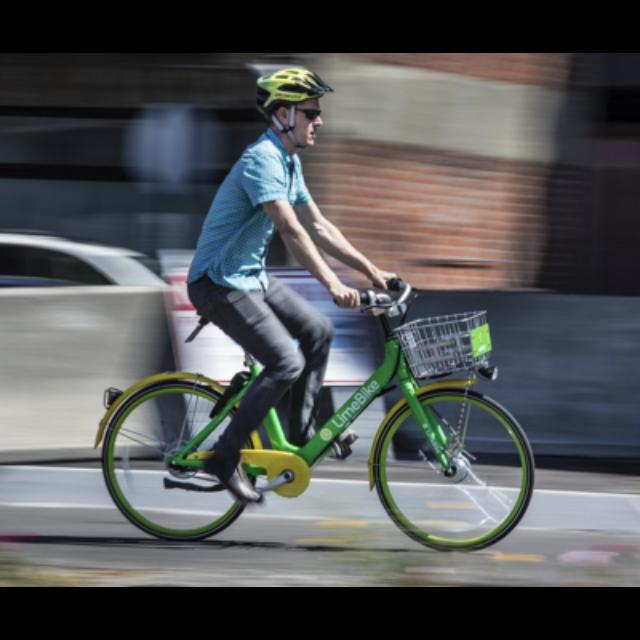With Helmet: (246, 59, 338, 155)
